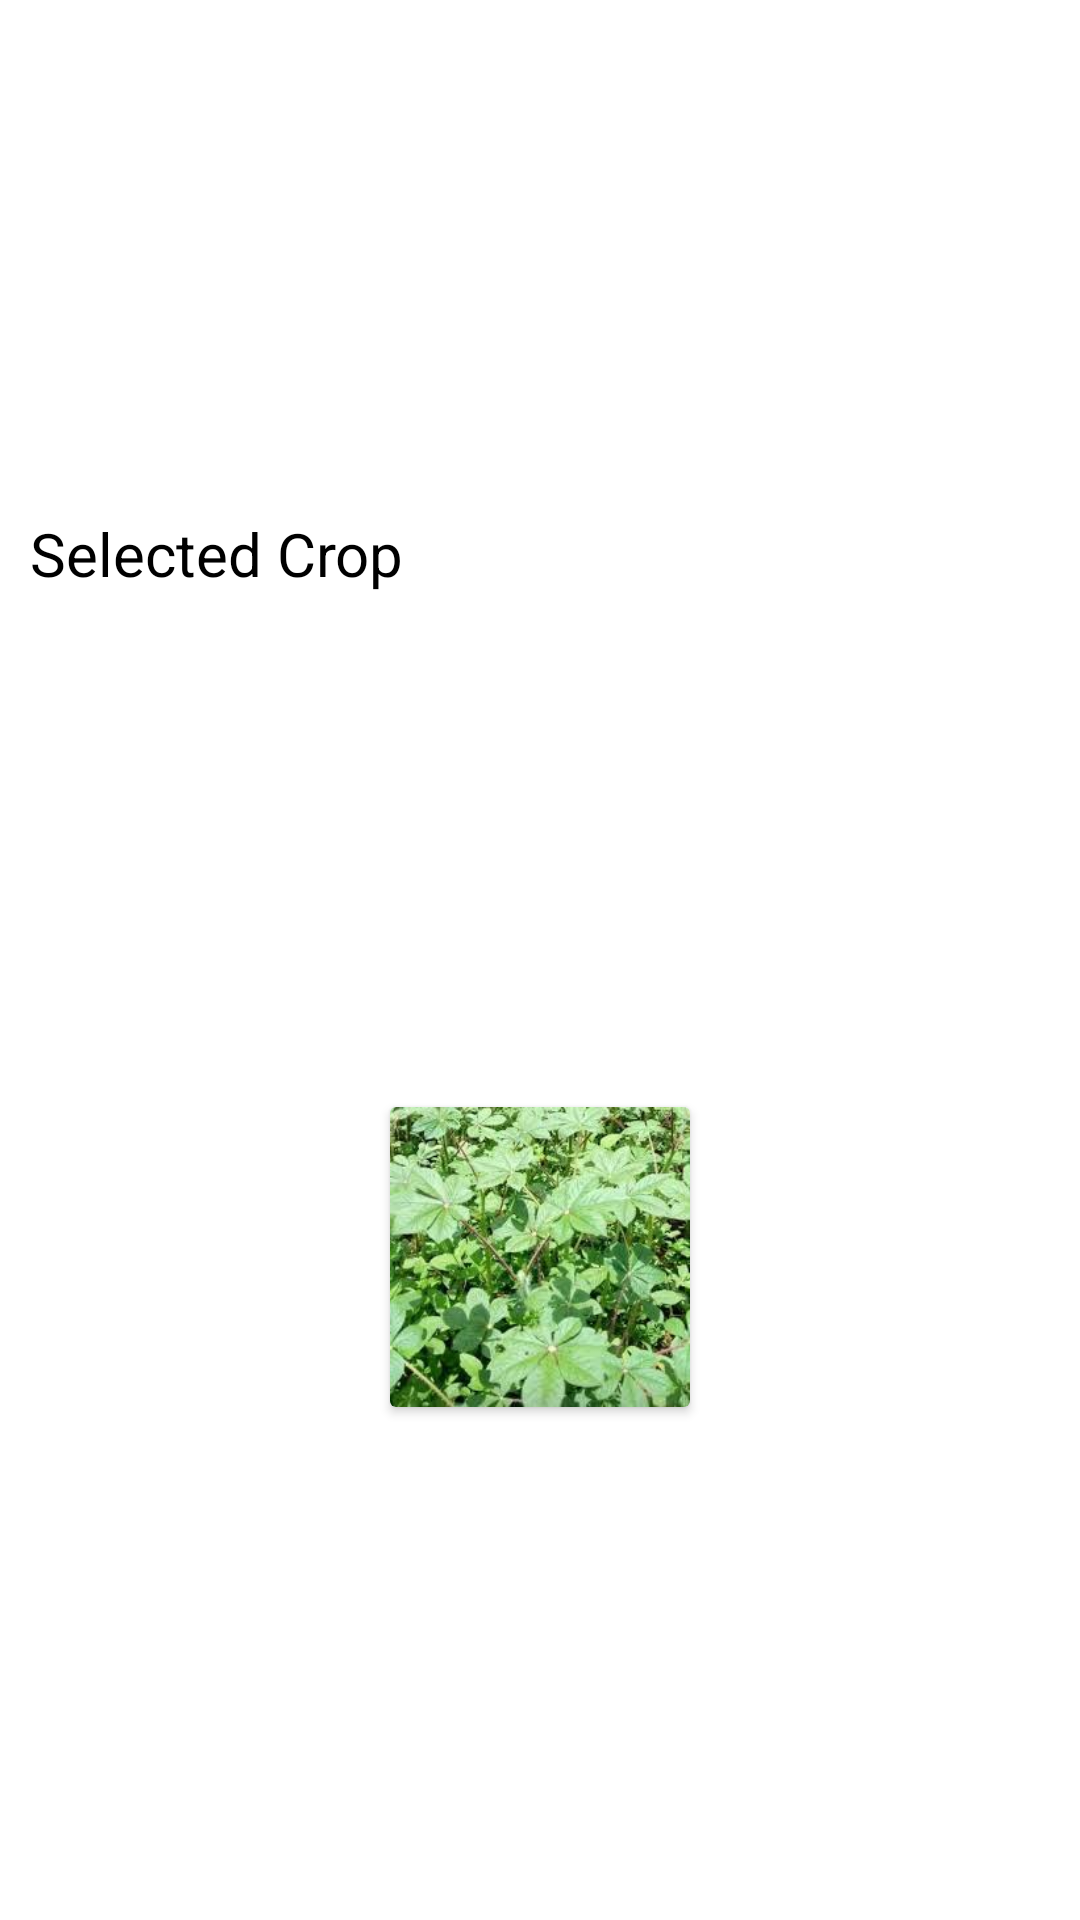

Where to tap for icons on this 1080x1920 app screen, as [x,y]:
isaka: [540,1257]
